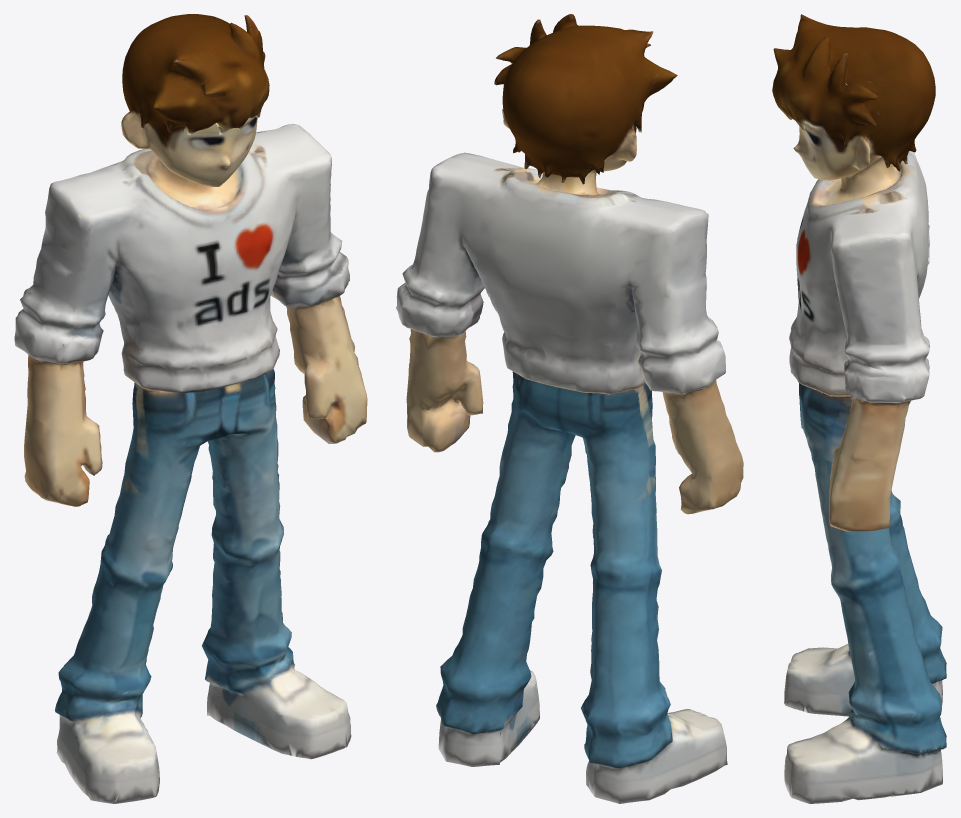
Rendered from altman.glb.
The picture shows the model from 3 angles, left to right: view 1: azimuth 30°, elevation 25°; view 2: azimuth 150°, elevation 25°; view 3: azimuth 270°, elevation 25°; orthographic projection. The views are drawn at different scales.
Parts seen in each view (by area): view 1: model; view 2: model; view 3: model.
Boxes of the visible parts, x1,y1,x2,y2 form: model: [14, 14, 367, 803]; model: [396, 14, 743, 803]; model: [772, 14, 946, 803].
Bounding box in the file's own units: 0.8756 × 1.9 × 0.421.
Materials: 1 (1 with a texture image).
